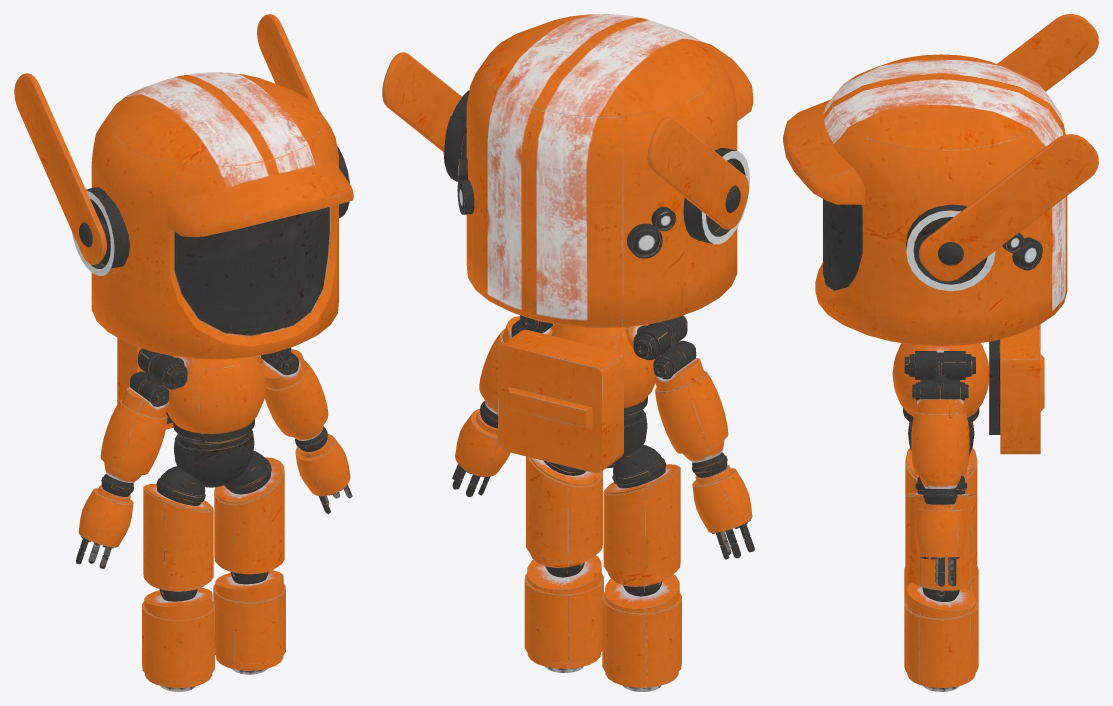
File: robot_k-vrc-transformed.glb
3 renders of one model, left to right at view 1: azimuth 30°, elevation 25°; view 2: azimuth 150°, elevation 25°; view 3: azimuth 270°, elevation 25°, orthographic. The views are drawn at different scales.
Visible parts, largest first — view 1: LDR_Bot.001_TT_material_override-LDR_Bot.001_0; view 2: LDR_Bot.001_TT_material_override-LDR_Bot.001_0; view 3: LDR_Bot.001_TT_material_override-LDR_Bot.001_0.
Boxes of the visible parts, <box> form: LDR_Bot.001_TT_material_override-LDR_Bot.001_0: <box>14,14,353,691</box>; LDR_Bot.001_TT_material_override-LDR_Bot.001_0: <box>382,14,754,691</box>; LDR_Bot.001_TT_material_override-LDR_Bot.001_0: <box>783,14,1098,691</box>.
Size of the model in its own units: 2.37 by 4.81 by 2.32.
Materials: 1 (1 with a texture image).
